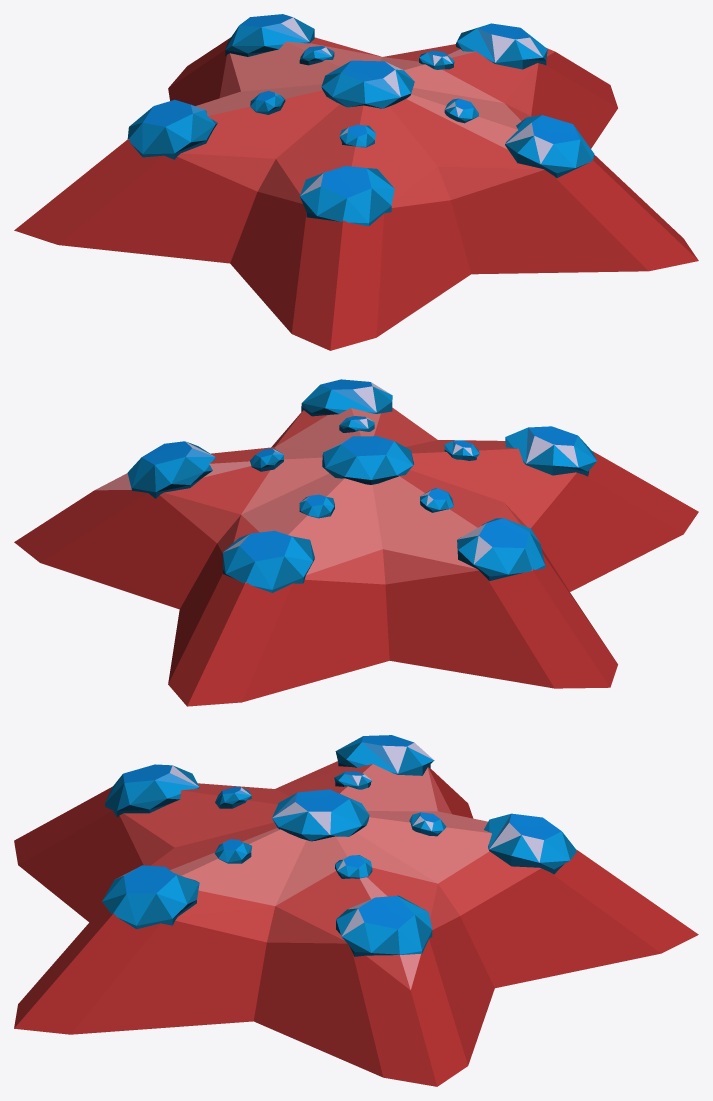
File: starfish_red.fbx
3 renders of one model, top to bottom at view 1: azimuth 30°, elevation 25°; view 2: azimuth 150°, elevation 25°; view 3: azimuth 270°, elevation 25°, orthographic. The views are drawn at different scales.
Visible parts, largest first — view 1: starfish_red; view 2: starfish_red; view 3: starfish_red.
Part boxes in pixels (box(x1,y1,x2,y2)): starfish_red: box(14, 14, 698, 350); starfish_red: box(14, 379, 698, 706); starfish_red: box(14, 735, 698, 1086).
Bounding box in the file's own units: 0.7089 × 0.1461 × 0.6742.
